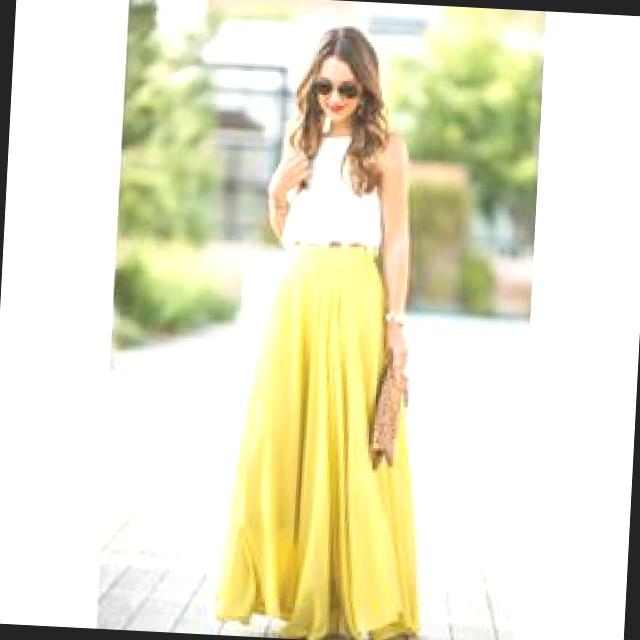Tshirt: (280, 123, 392, 258)
skirt: (218, 240, 433, 640)
